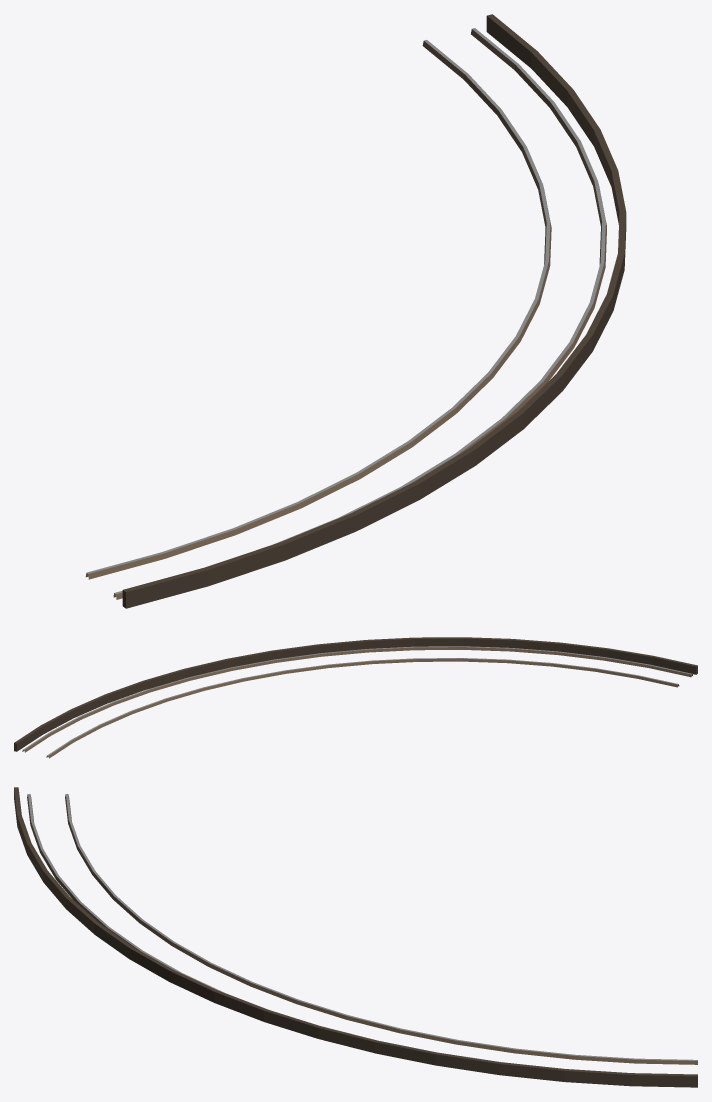
File: SW_ENV_TrackBend_Inner_90_25m_Collision.fbx
3 views of the same model, one above another, from view 1: azimuth 30°, elevation 25°; view 2: azimuth 150°, elevation 25°; view 3: azimuth 270°, elevation 25° (orthographic). The views are drawn at different scales.
Visible parts, largest first — view 1: SW_ENV_TrackBend_Inner_90_25m_Collision; view 2: SW_ENV_TrackBend_Inner_90_25m_Collision; view 3: SW_ENV_TrackBend_Inner_90_25m_Collision.
Part boxes in pixels (x1=…): SW_ENV_TrackBend_Inner_90_25m_Collision: x1=85, y1=14, x2=626, y2=608; SW_ENV_TrackBend_Inner_90_25m_Collision: x1=14, y1=637, x2=697, y2=758; SW_ENV_TrackBend_Inner_90_25m_Collision: x1=14, y1=787, x2=697, y2=1087.
Size of the model in its own units: 2631 by 47.71 by 2631.
